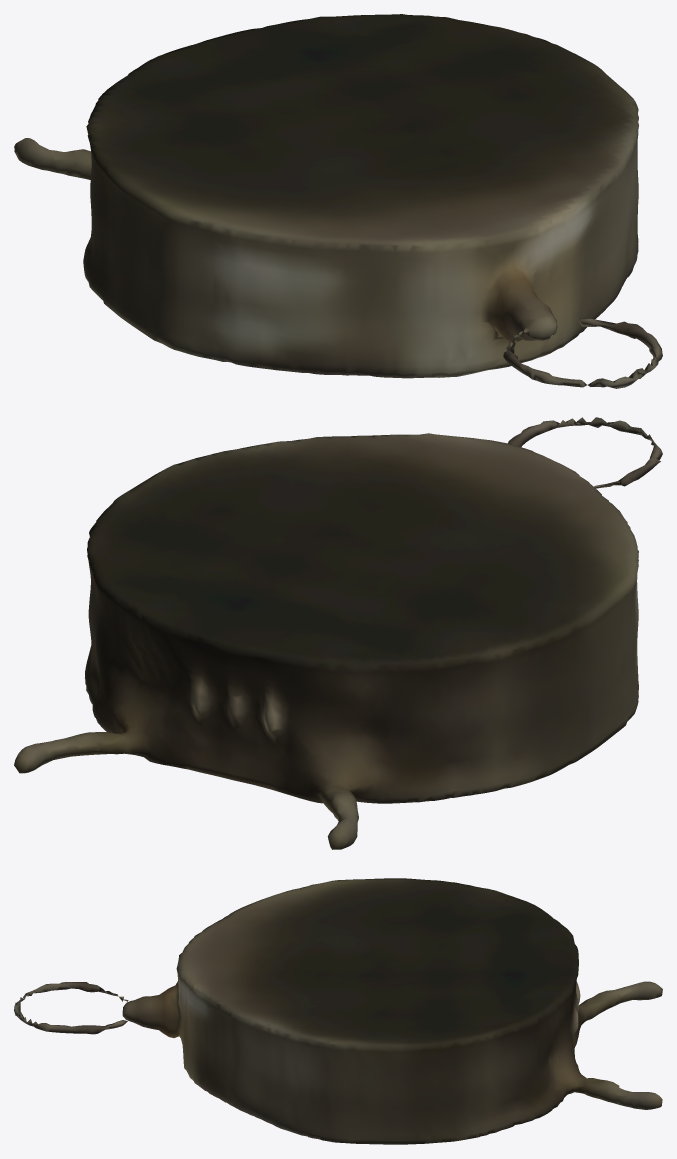
Rendered from alarm.glb.
3 renders of one model, top to bottom at view 1: azimuth 30°, elevation 25°; view 2: azimuth 150°, elevation 25°; view 3: azimuth 270°, elevation 25°, orthographic. The views are drawn at different scales.
Bounding box in the file's own units: 0.6157 × 0.1725 × 0.9979.
